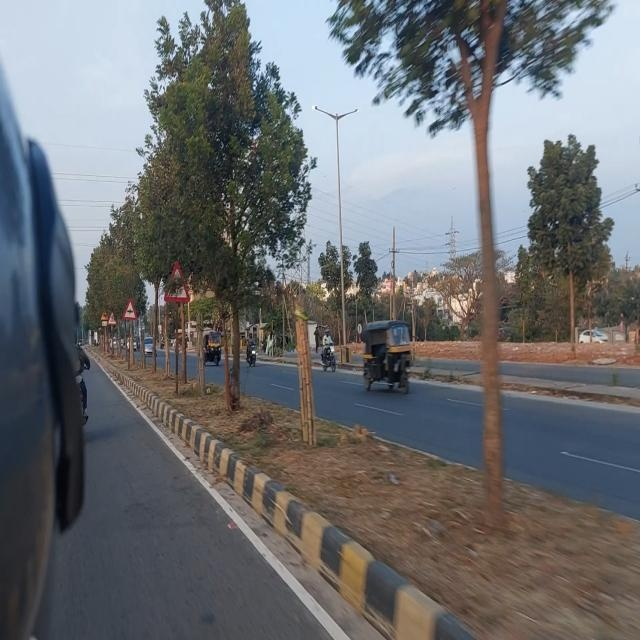bien_nguy_hiem: (164, 253, 190, 304), (122, 296, 137, 321)
